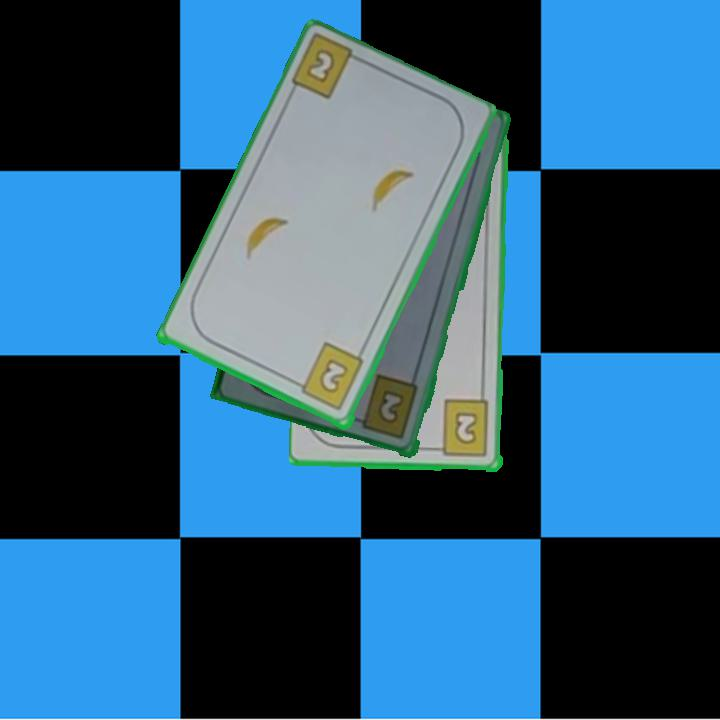2b: (290, 340, 367, 414), (350, 372, 422, 442), (430, 397, 492, 459), (302, 45, 339, 87)
